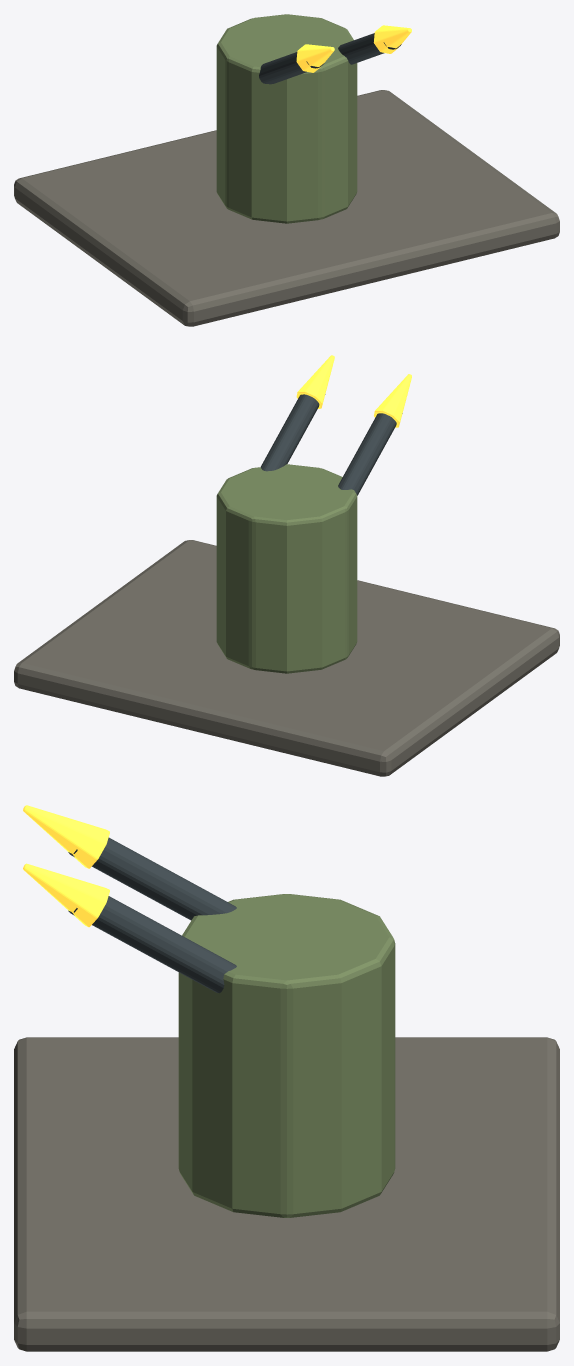
The model's file is human_aa_turret.glb.
The picture shows the model from 3 angles, top to bottom: view 1: azimuth 30°, elevation 25°; view 2: azimuth 150°, elevation 25°; view 3: azimuth 270°, elevation 25°; orthographic projection. The views are drawn at different scales.
Parts seen in each view (by area): view 1: Foundation, Tower, MissileRail, MissileRail.001, Missile, Missile.001; view 2: Foundation, Tower, MissileRail, MissileRail.001, Missile.001, Missile; view 3: Foundation, Tower, MissileRail.001, MissileRail, Missile, Missile.001.
Boxes of the visible parts, x1=… form: Foundation: x1=14, y1=90, x2=559, y2=326; Tower: x1=216, y1=14, x2=357, y2=223; MissileRail: x1=259, y1=52, x2=324, y2=84; MissileRail.001: x1=338, y1=33, x2=401, y2=64; Missile: x1=296, y1=44, x2=334, y2=72; Missile.001: x1=373, y1=25, x2=411, y2=53; Foundation: x1=14, y1=540, x2=559, y2=776; Tower: x1=216, y1=464, x2=357, y2=673; MissileRail: x1=338, y1=413, x2=402, y2=495; MissileRail.001: x1=261, y1=394, x2=325, y2=471; Missile.001: x1=296, y1=355, x2=334, y2=408; Missile: x1=374, y1=374, x2=411, y2=427; Foundation: x1=14, y1=1037, x2=559, y2=1351; Tower: x1=178, y1=894, x2=395, y2=1217; MissileRail.001: x1=68, y1=896, x2=236, y2=993; MissileRail: x1=68, y1=837, x2=236, y2=920; Missile: x1=23, y1=805, x2=109, y2=868; Missile.001: x1=23, y1=863, x2=109, y2=927.
Bounding box in the file's own units: 1.85 × 1.15 × 1.5.
